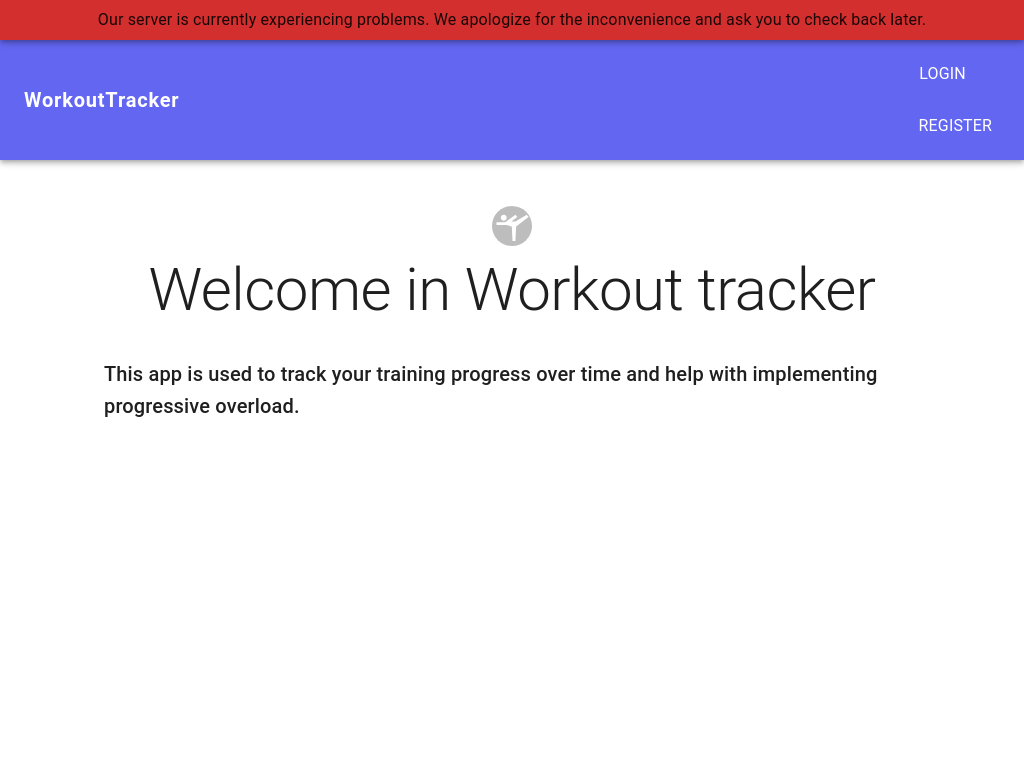
Test: Register Form › Successfully loads
Click the link "Register": (956, 126) [911,108,1000,144]
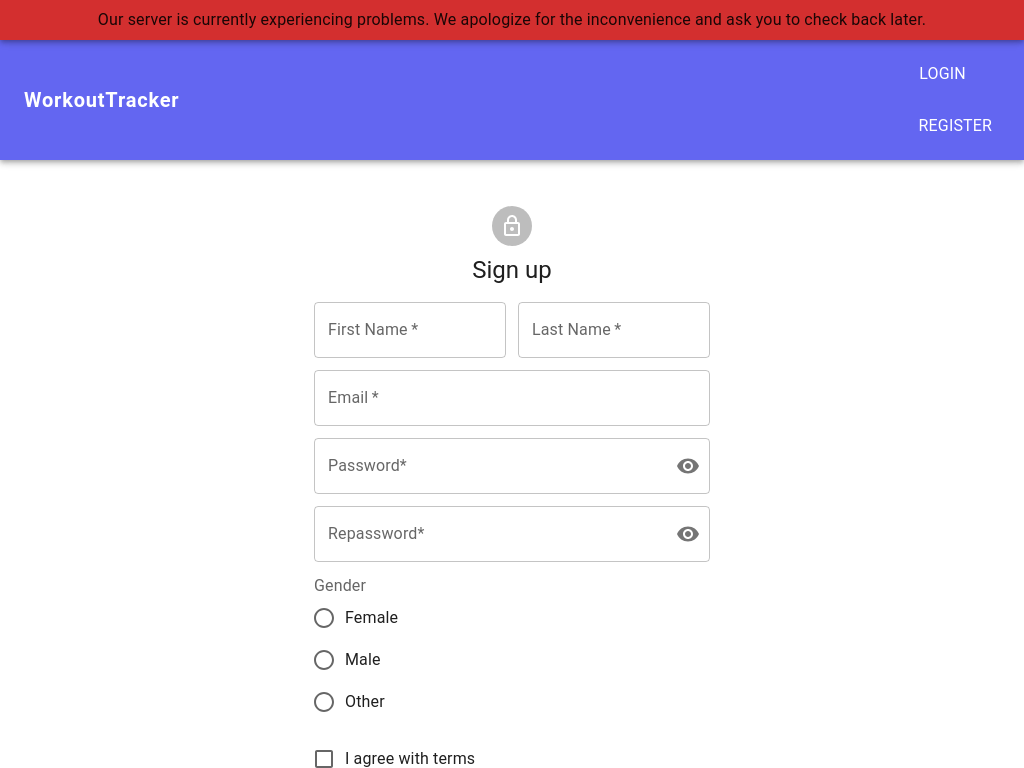
Now the heading "Sign up" is shown, box [472,254,552,286]
